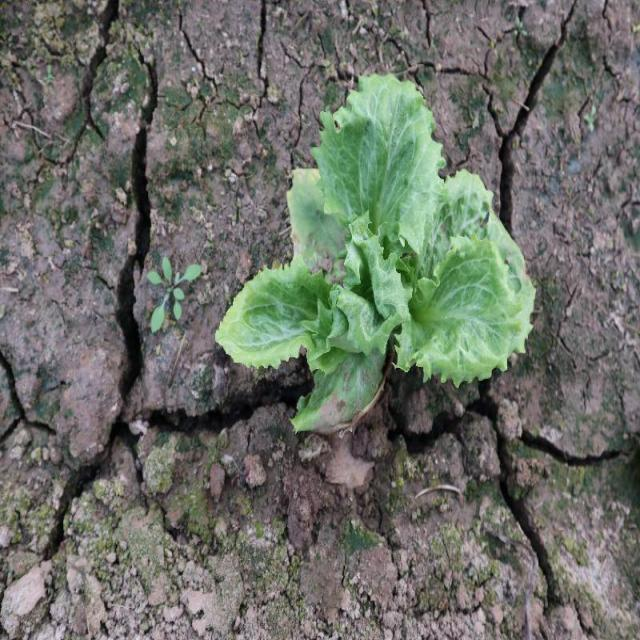crop: (218, 73, 536, 380)
